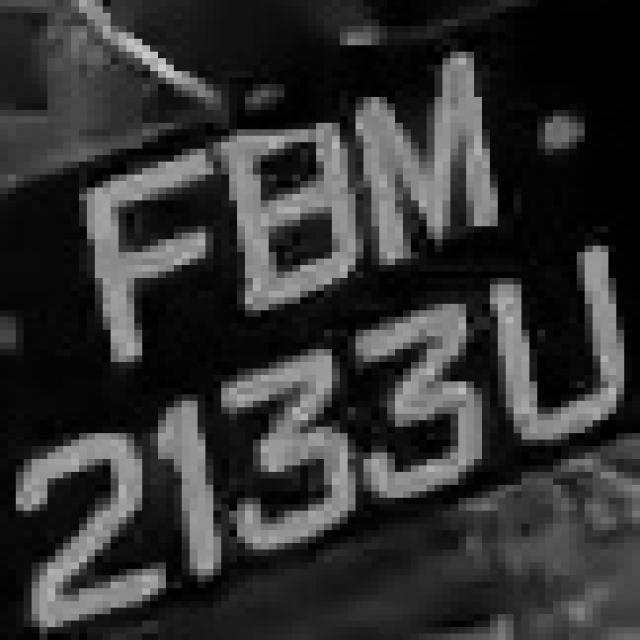1: (134, 382, 253, 588)
2: (0, 4, 2, 7)
3: (198, 349, 372, 556), (348, 297, 498, 498)
B: (198, 117, 364, 310)
F: (55, 136, 229, 368)
M: (324, 45, 521, 252)
U: (474, 259, 640, 459)
